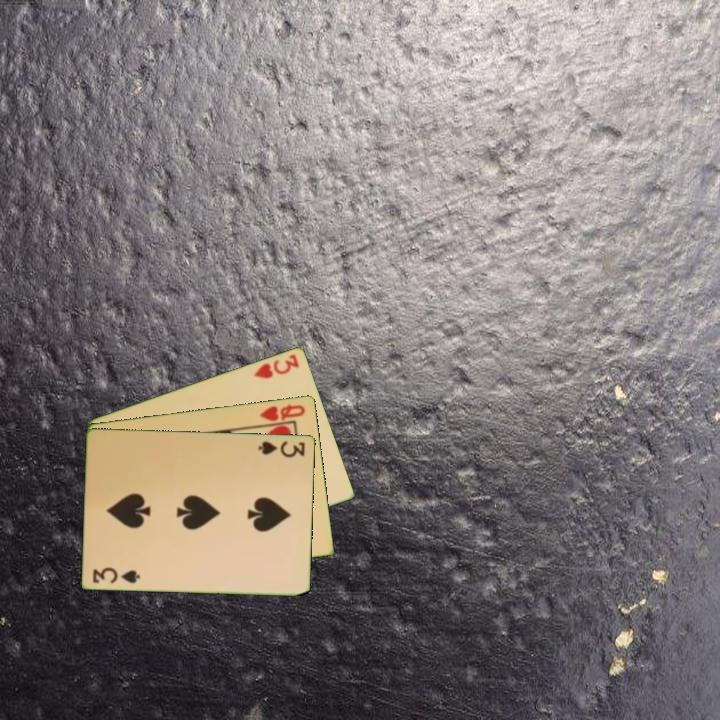3h: (250, 350, 302, 381)
3s: (90, 563, 143, 586), (255, 438, 308, 460)
Qh: (254, 400, 308, 428)
